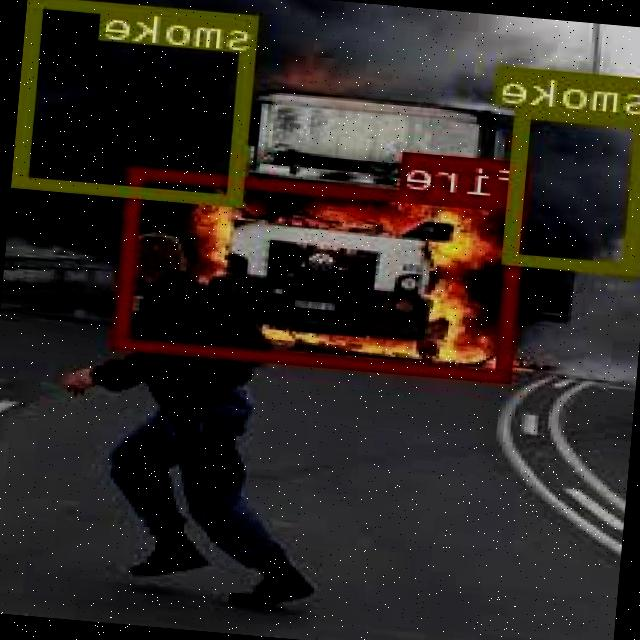fire: (116, 164, 529, 381)
smoke: (17, 0, 262, 203), (507, 104, 640, 273)
